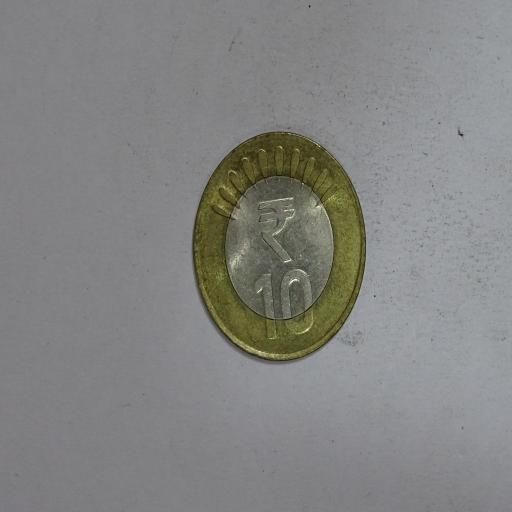rupee10: (185, 128, 369, 366)
